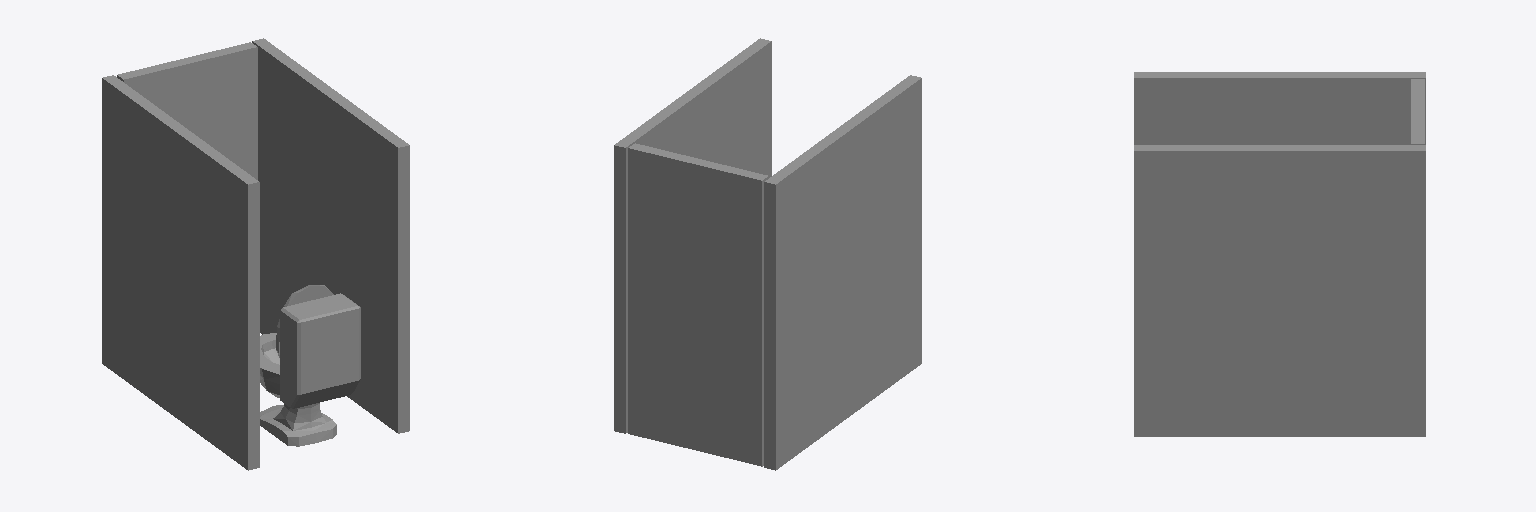
Rendered from Toilet.obj.
3 views of the same model, side by side, from view 1: azimuth 30°, elevation 25°; view 2: azimuth 150°, elevation 25°; view 3: azimuth 270°, elevation 25° (orthographic).
Visible parts, largest first — view 1: Cube.176_Cube.248, Cube.175_Cube.247, Cube.174_Cube.246, Cube.173_Cube.245, Cube.172_Cube.244; view 2: Cube.176_Cube.248, Cube.174_Cube.246, Cube.175_Cube.247; view 3: Cube.175_Cube.247, Cube.176_Cube.248, Cube.174_Cube.246.
Boxes of the visible parts, x1,y1,x2,y2 form: Cube.176_Cube.248: [102, 75, 259, 470]; Cube.175_Cube.247: [252, 38, 409, 433]; Cube.174_Cube.246: [117, 42, 257, 179]; Cube.173_Cube.245: [280, 293, 360, 408]; Cube.172_Cube.244: [260, 285, 336, 446]; Cube.176_Cube.248: [764, 75, 921, 470]; Cube.174_Cube.246: [628, 143, 768, 466]; Cube.175_Cube.247: [614, 38, 771, 433]; Cube.175_Cube.247: [1134, 145, 1425, 436]; Cube.176_Cube.248: [1134, 72, 1425, 144]; Cube.174_Cube.246: [1411, 79, 1424, 144].
Size of the model in its own units: 2.42 by 4.13 by 3.78.